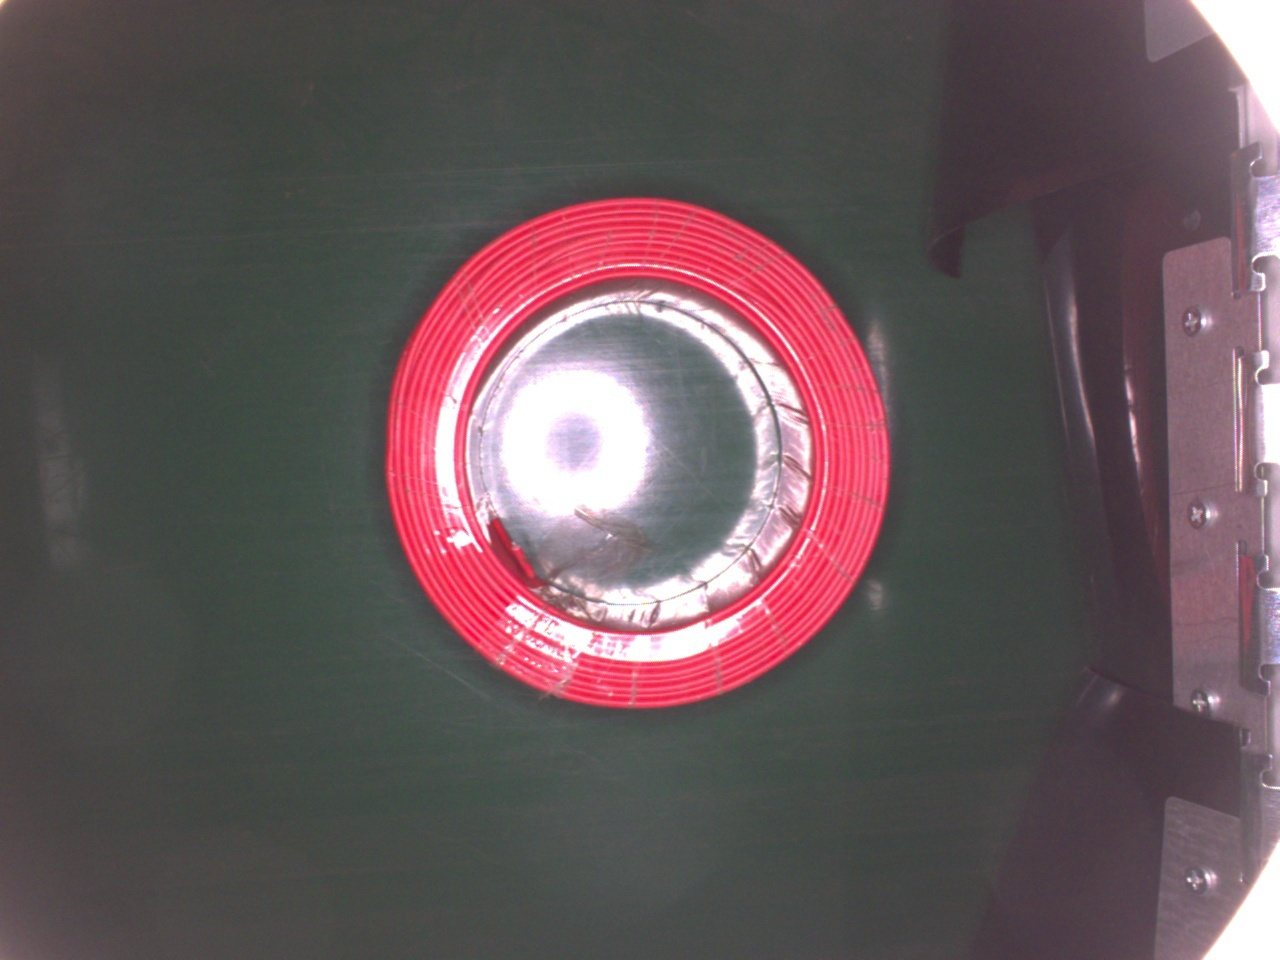red: (378, 195, 888, 711)
